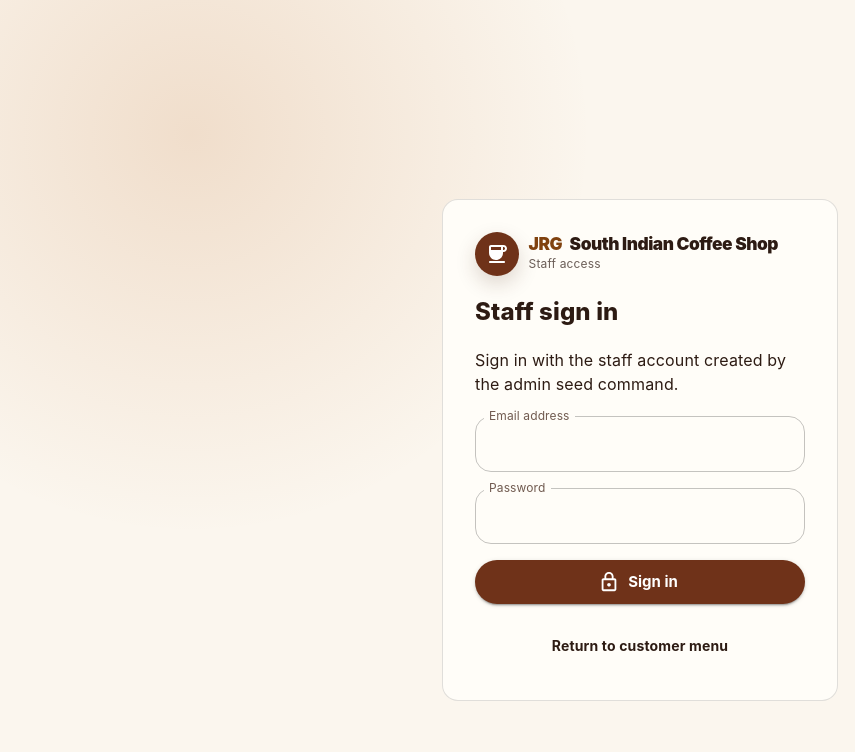
admin product management › shows a safe error after invalid login
This screenshot has width=855, height=752.
Type "staff@example.com" into the field labelled "Email address" at x=640, y=444, box [475, 416, 805, 472]
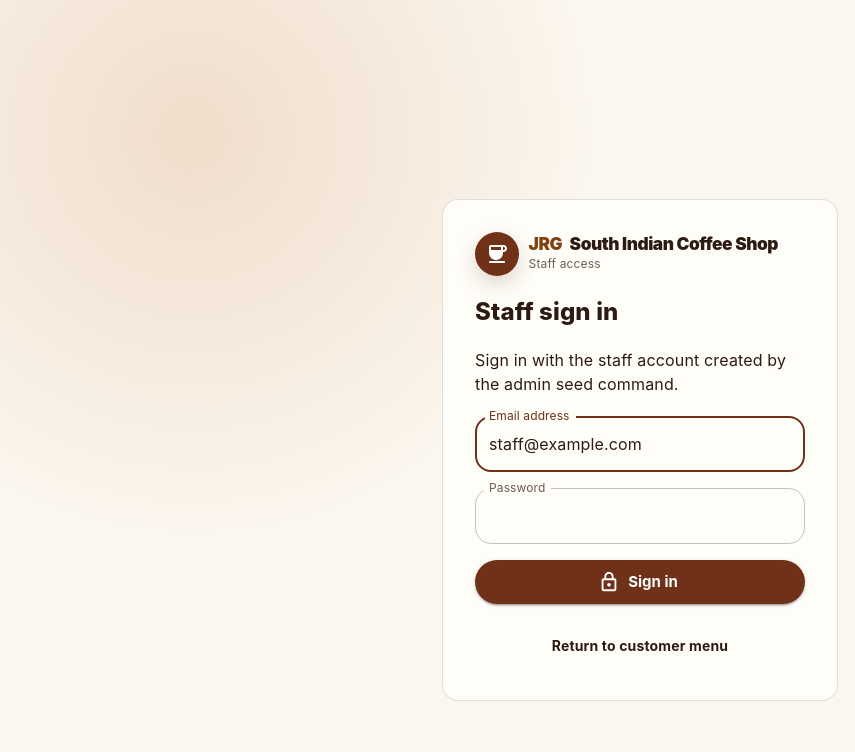
Type "wrong-password" into the password field labelled "Password" at x=640, y=516, box [475, 488, 805, 544]
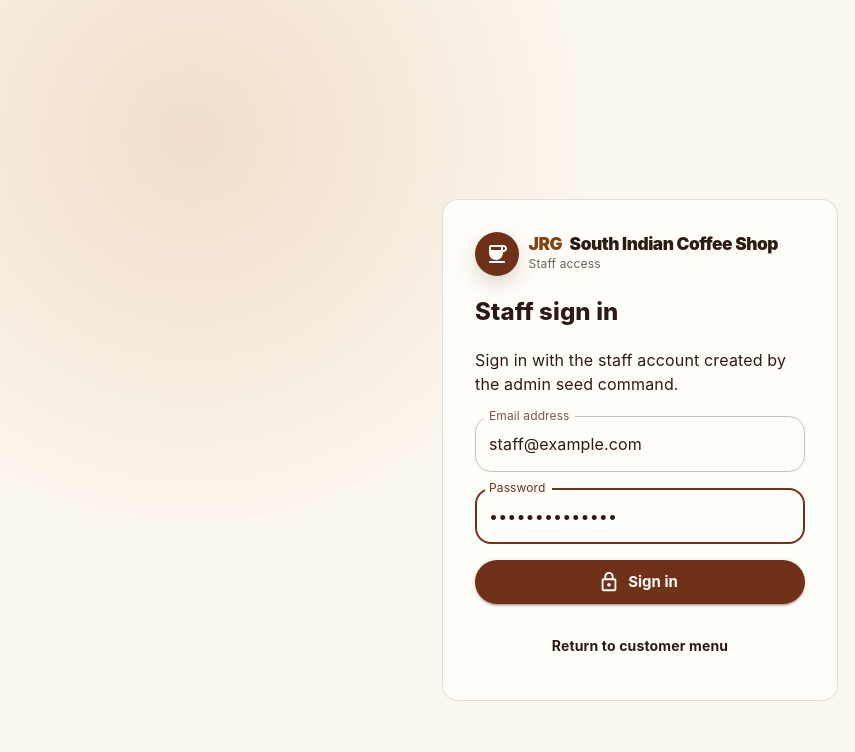
Click the button "Sign in" at x=640, y=582, box [475, 560, 805, 604]
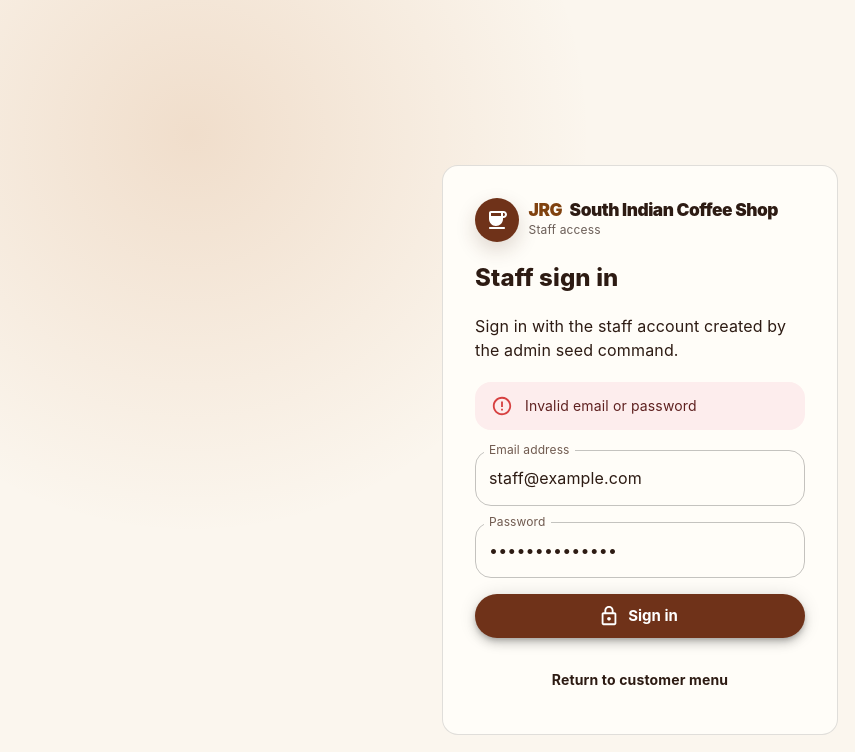
Now the text "Invalid email or password" is shown, box [525, 397, 697, 414]
